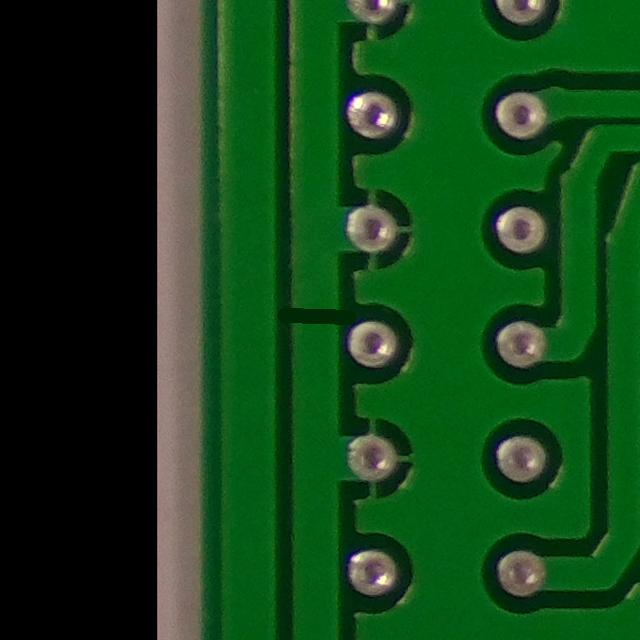open_circuit: (285, 281, 354, 359)
